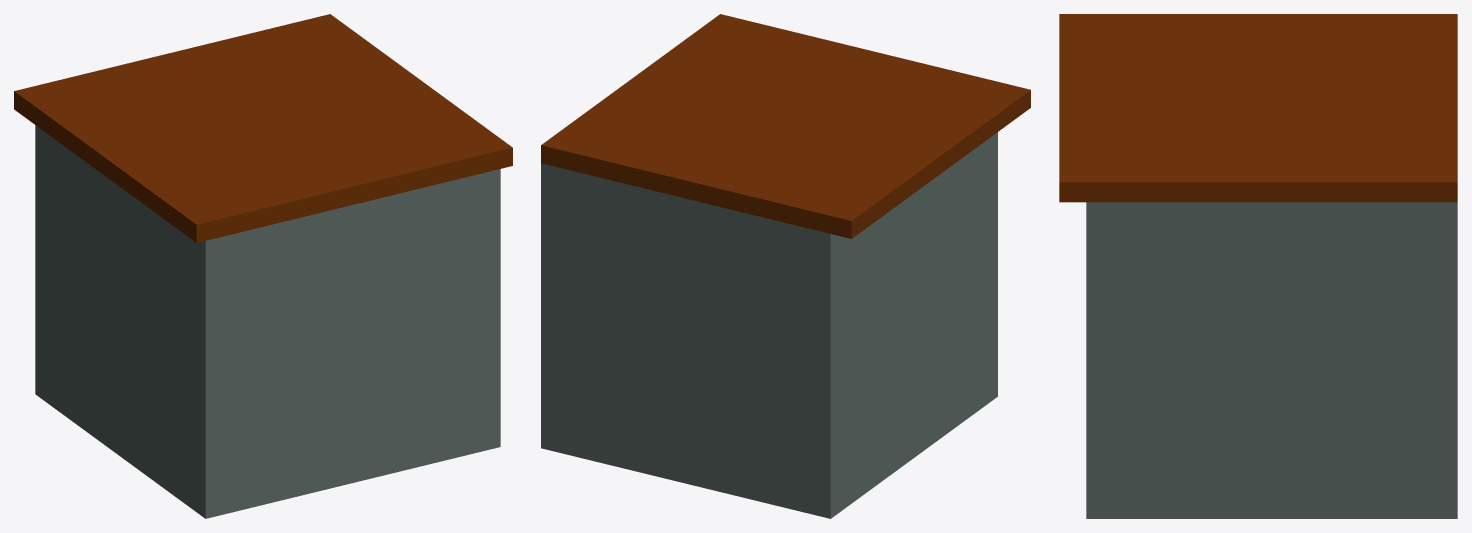
File: SM_Counter_Corner_02.glb
The picture shows the model from 3 angles, left to right: view 1: azimuth 30°, elevation 25°; view 2: azimuth 150°, elevation 25°; view 3: azimuth 270°, elevation 25°; orthographic projection. The views are drawn at different scales.
Parts seen in each view (by area): view 1: SM_Counter_Corner_02; view 2: SM_Counter_Corner_02; view 3: SM_Counter_Corner_02.
Part boxes in pixels (left/top/right/bottom): SM_Counter_Corner_02: left=14, top=14, right=512, bottom=518; SM_Counter_Corner_02: left=541, top=14, right=1030, bottom=518; SM_Counter_Corner_02: left=1059, top=14, right=1457, bottom=518.
Size of the model in its own units: 1.07 by 1 by 1.07.
Materials: 2 (1 with a texture image).
